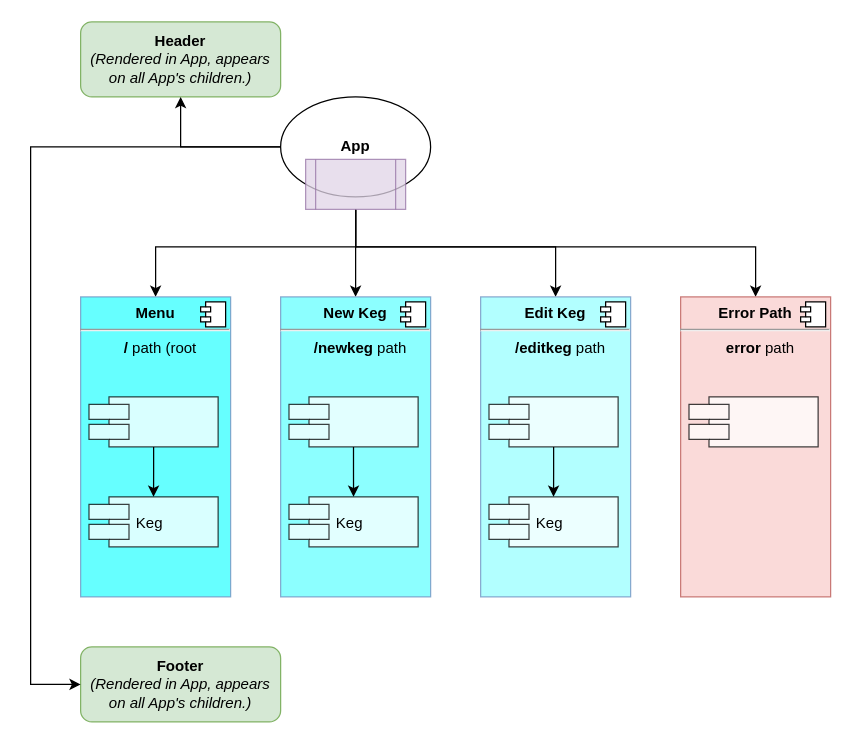
The diagram is 853 pixels wide and 744 high, and some of its shapes have lost their labels. Here are the shapes that lost their labels. From the top down, the centre of each, then its label:
At point 355,183: "Routes".
At point 153,421: "Keg List".
At point 353,421: "New Keg Form".
At point 553,421: "Edit Keg Form".
At point 753,421: "Error 404".
